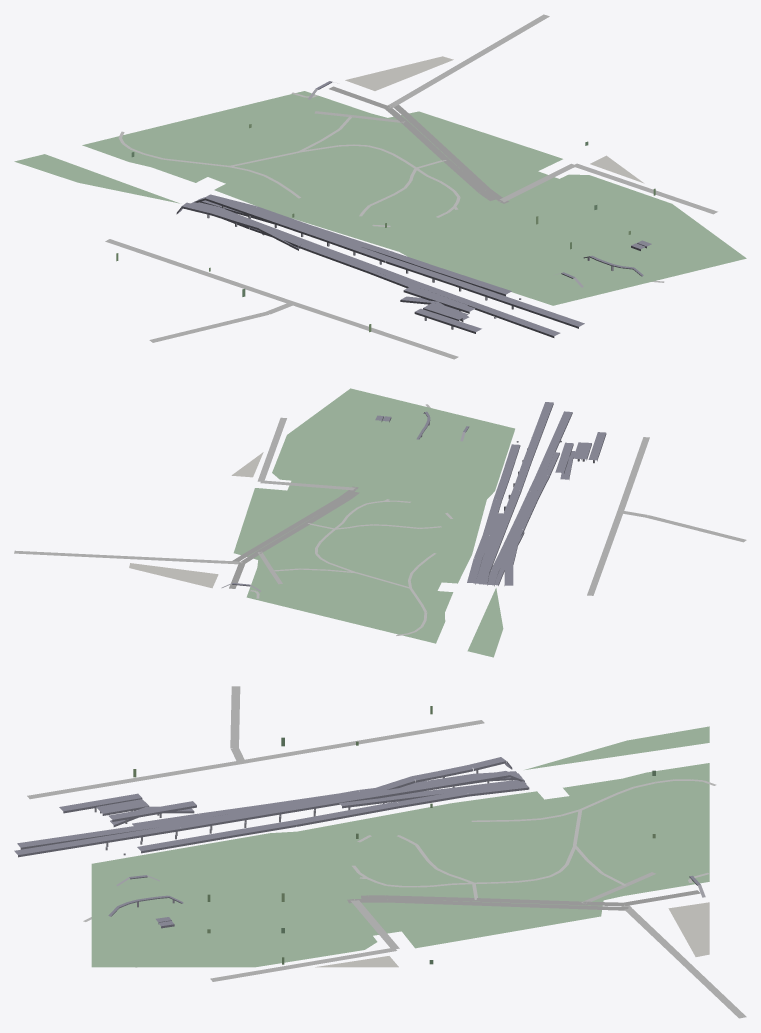
The picture shows the model from 3 angles, top to bottom: view 1: azimuth 30°, elevation 25°; view 2: azimuth 150°, elevation 25°; view 3: azimuth 270°, elevation 25°; orthographic projection. The views are drawn at different scales.
Bounding box in the file's own units: 643 × 10.38 × 593.
